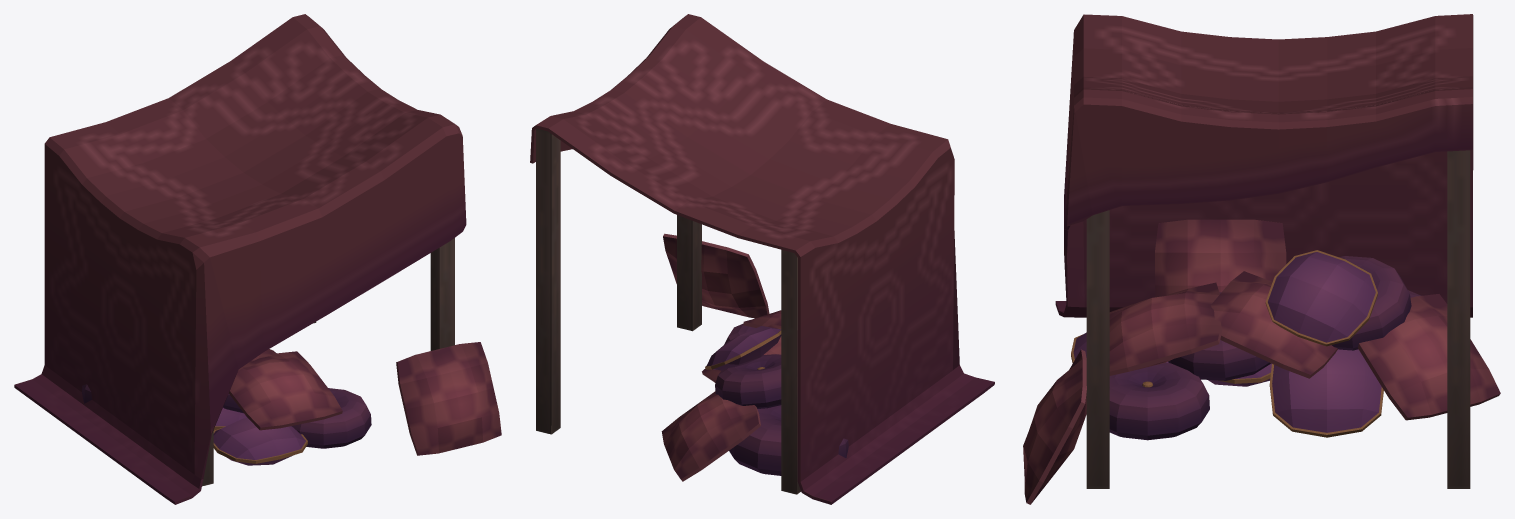
Rendered from TiendillaCiervo.fbx.
3 views of the same model, side by side, from view 1: azimuth 30°, elevation 25°; view 2: azimuth 150°, elevation 25°; view 3: azimuth 270°, elevation 25° (orthographic). The views are drawn at different scales.
Visible parts, largest first — view 1: Tela, Cube.001, Cube.007, Cube, Cylinder; view 2: Tela, Cube.002, Cube.001, Cylinder.003, Cylinder.001, Cube.008; view 3: Tela, Cube.002, Cube.005, Cube.008, Cube.003, Cube.007, Cylinder, Cube.006, Cube.001, Cylinder.003, Cylinder.002, Cube.004.
Boxes of the visible parts, <box> form: Tela: <box>14,14,466,504</box>; Cube.001: <box>396,342,501,455</box>; Cube.007: <box>229,351,342,430</box>; Cube: <box>213,418,307,465</box>; Cylinder: <box>291,388,371,448</box>; Tela: <box>530,14,994,504</box>; Cube.002: <box>661,391,760,481</box>; Cube.001: <box>663,233,769,318</box>; Cylinder.003: <box>715,354,781,408</box>; Cylinder.001: <box>729,405,848,475</box>; Cube.008: <box>705,326,781,370</box>; Tela: <box>1055,14,1473,488</box>; Cube.002: <box>1357,294,1500,420</box>; Cube.005: <box>1155,219,1286,297</box>; Cube.008: <box>1265,250,1377,346</box>; Cube.003: <box>1269,349,1383,437</box>; Cube.007: <box>1109,282,1222,375</box>; Cylinder: <box>1109,362,1209,440</box>; Cube.006: <box>1211,271,1337,378</box>; Cube.001: <box>1023,349,1086,504</box>; Cylinder.003: <box>1332,256,1411,350</box>; Cylinder.002: <box>1168,292,1270,380</box>; Cube.004: <box>1208,363,1271,386</box>.
Size of the model in its own units: 724 by 679 by 727.
